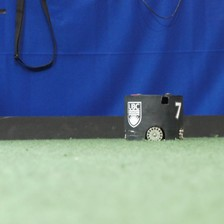robot: (120, 89, 187, 144)
